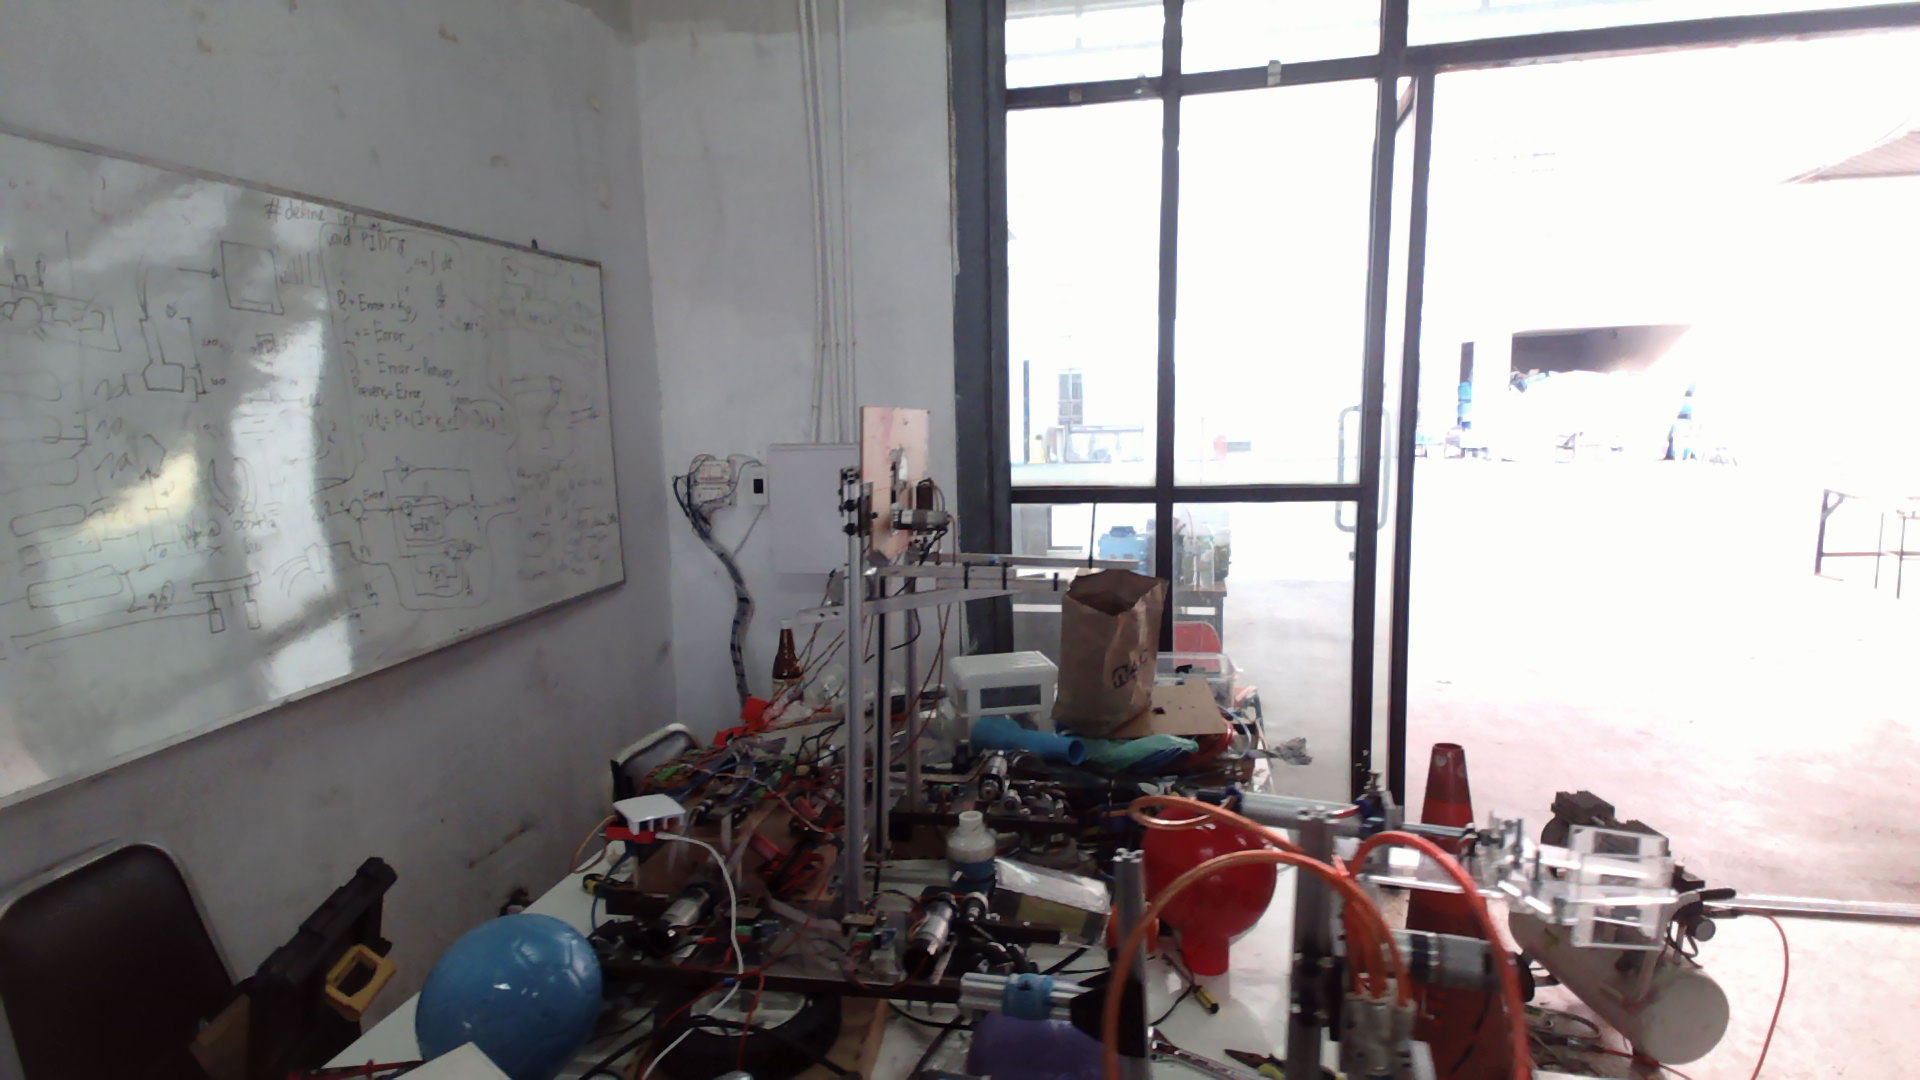Blue ball: (411, 910, 607, 1060)
